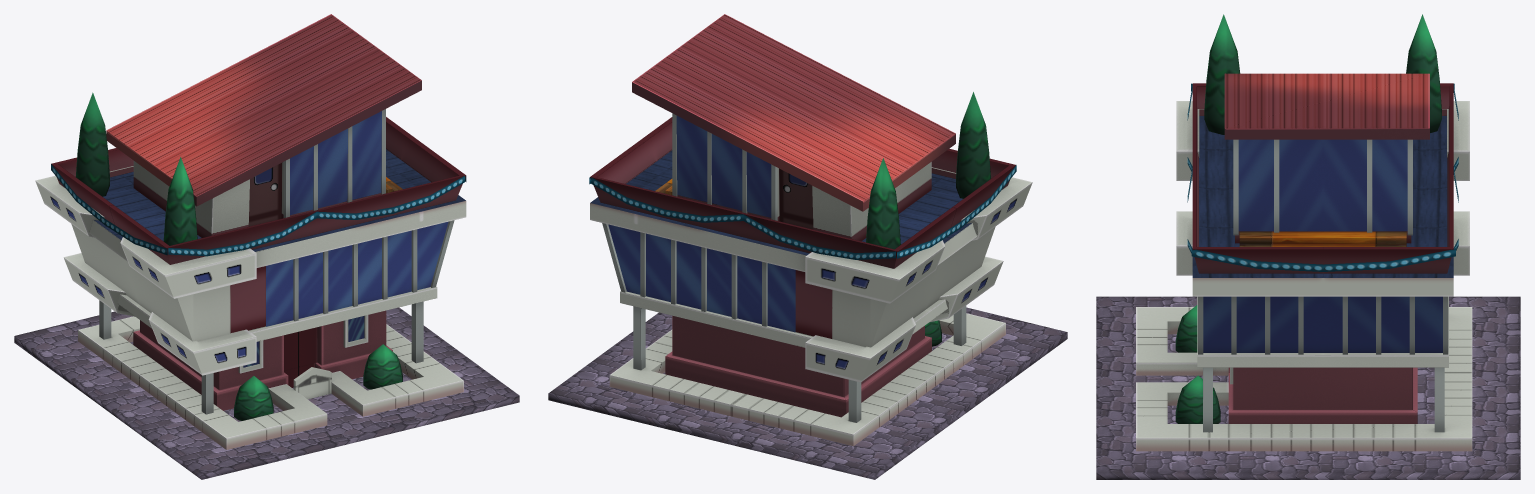
3 renders of one model, left to right at view 1: azimuth 30°, elevation 25°; view 2: azimuth 150°, elevation 25°; view 3: azimuth 270°, elevation 25°, orthographic. The views are drawn at different scales.
Visible parts, largest first — view 1: Haus8; view 2: Haus8; view 3: Haus8.
Part boxes in pixels (x1,y1,x2,y2): Haus8: (14, 14, 519, 479); Haus8: (548, 14, 1067, 479); Haus8: (1096, 14, 1520, 479).
Size of the model in its own units: 15.8 by 13.73 by 16.06.
2 materials, 2 textured.
